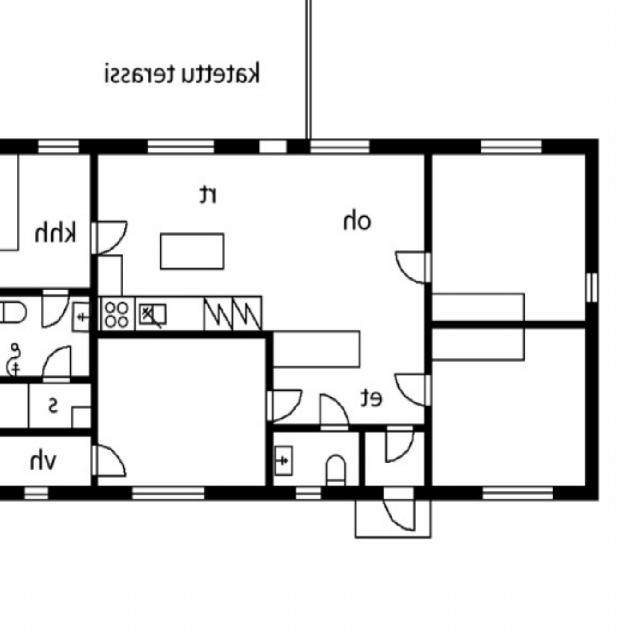door: (383, 485, 415, 535), (391, 370, 432, 407), (90, 217, 130, 254), (391, 248, 432, 284), (265, 386, 304, 421), (320, 391, 350, 432), (90, 444, 126, 476), (43, 344, 71, 384), (42, 288, 70, 327), (387, 423, 414, 462)
